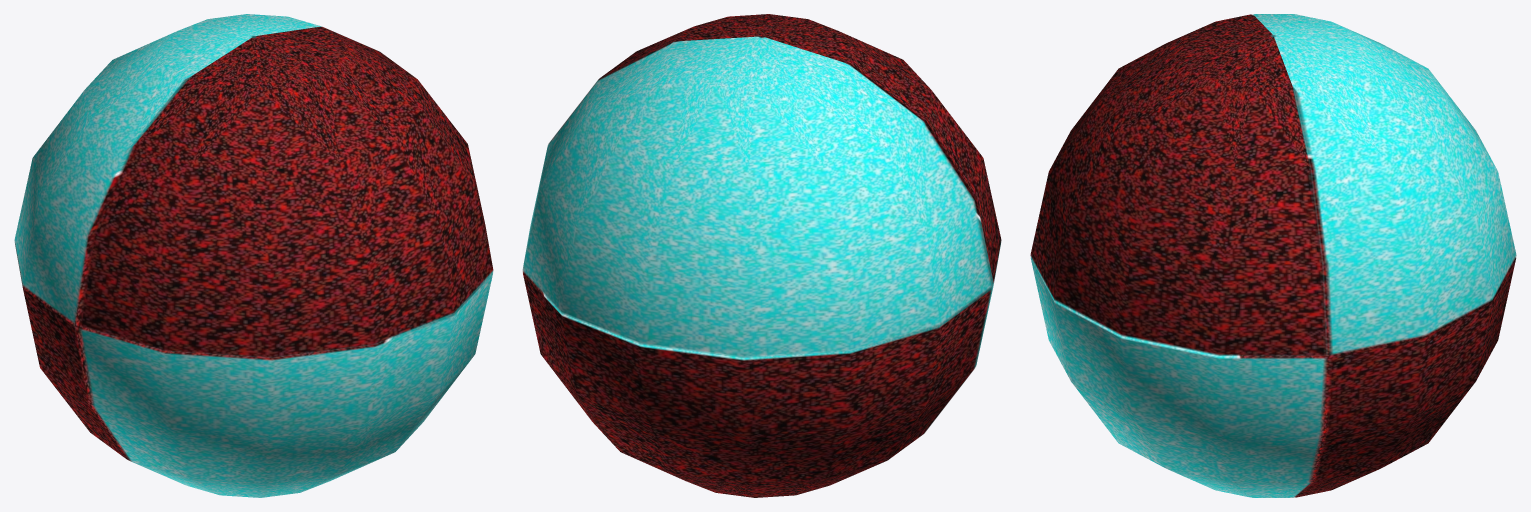
The picture shows the model from 3 angles, left to right: view 1: azimuth 30°, elevation 25°; view 2: azimuth 150°, elevation 25°; view 3: azimuth 270°, elevation 25°; orthographic projection.
Visible parts, largest first — view 1: SM_VFX_UVSphere_1m_196_LOD0; view 2: SM_VFX_UVSphere_1m_196_LOD0; view 3: SM_VFX_UVSphere_1m_196_LOD0.
Boxes of the visible parts, left/top/right/bottom form: SM_VFX_UVSphere_1m_196_LOD0: left=14, top=14, right=493, bottom=497; SM_VFX_UVSphere_1m_196_LOD0: left=522, top=14, right=1001, bottom=497; SM_VFX_UVSphere_1m_196_LOD0: left=1030, top=14, right=1516, bottom=497.
Bounding box in the file's own units: 0.9749 × 1 × 1.
1 material, 1 textured.
